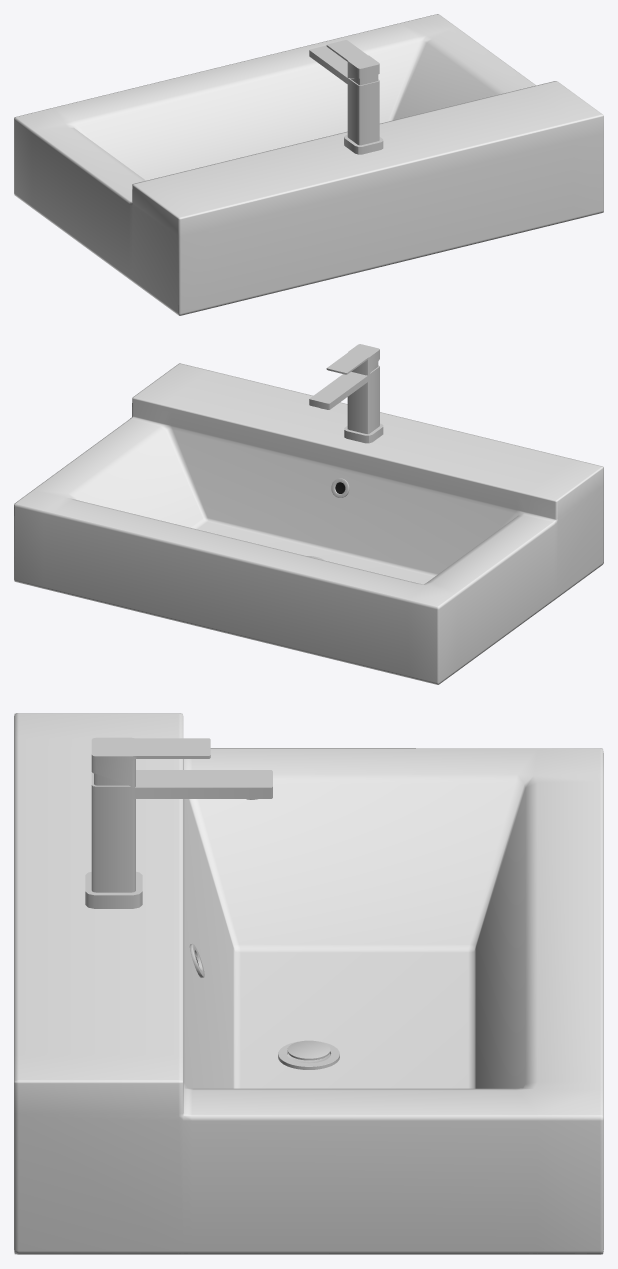
Rendered from WashBasin01.fbx.
3 renders of one model, top to bottom at view 1: azimuth 30°, elevation 25°; view 2: azimuth 150°, elevation 25°; view 3: azimuth 270°, elevation 25°, orthographic. The views are drawn at different scales.
Visible parts, largest first — view 1: WashBasin01, Faucet01, FaucetLever01; view 2: WashBasin01, Faucet01, FaucetLever01; view 3: WashBasin01, Faucet01, FaucetLever01.
Boxes of the visible parts, x1,y1,x2,y2 form: WashBasin01: (14, 14, 603, 315); Faucet01: (309, 45, 383, 154); FaucetLever01: (326, 40, 379, 78); WashBasin01: (14, 363, 603, 684); Faucet01: (309, 362, 383, 443); FaucetLever01: (326, 344, 379, 374); WashBasin01: (14, 713, 603, 1254); Faucet01: (85, 770, 272, 908); FaucetLever01: (91, 737, 210, 786).
Bounding box in the file's own units: 74.07 × 30.33 × 50.05.
